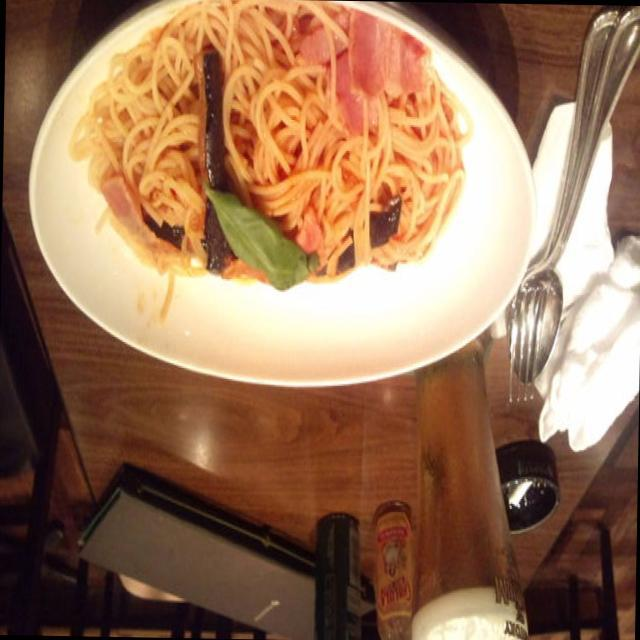Pasta: (64, 6, 468, 298)
